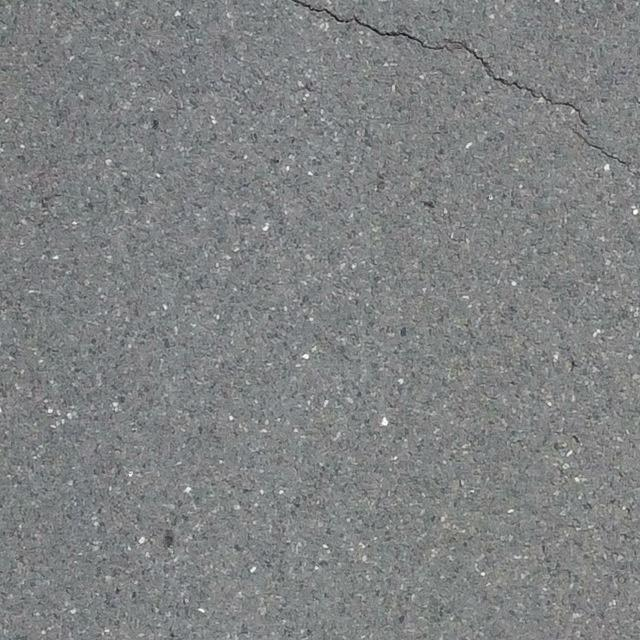TransverseCrack: (292, 1, 640, 176)
